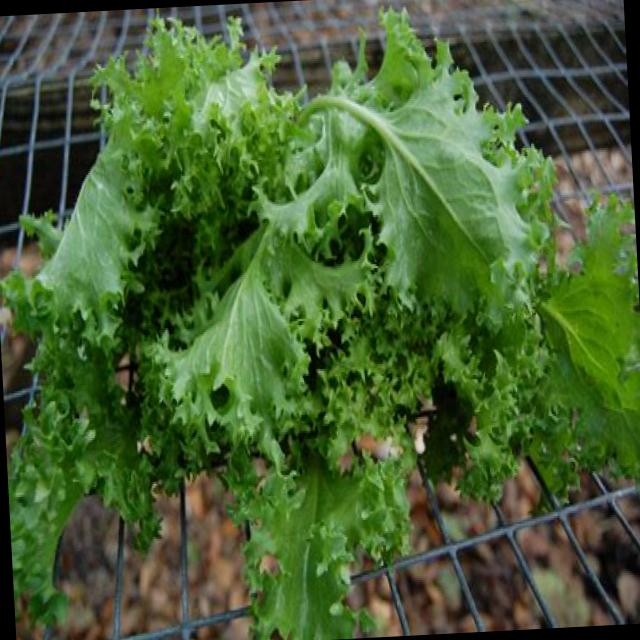Lettuce-Ready-to-Harvest: (100, 84, 506, 463)
